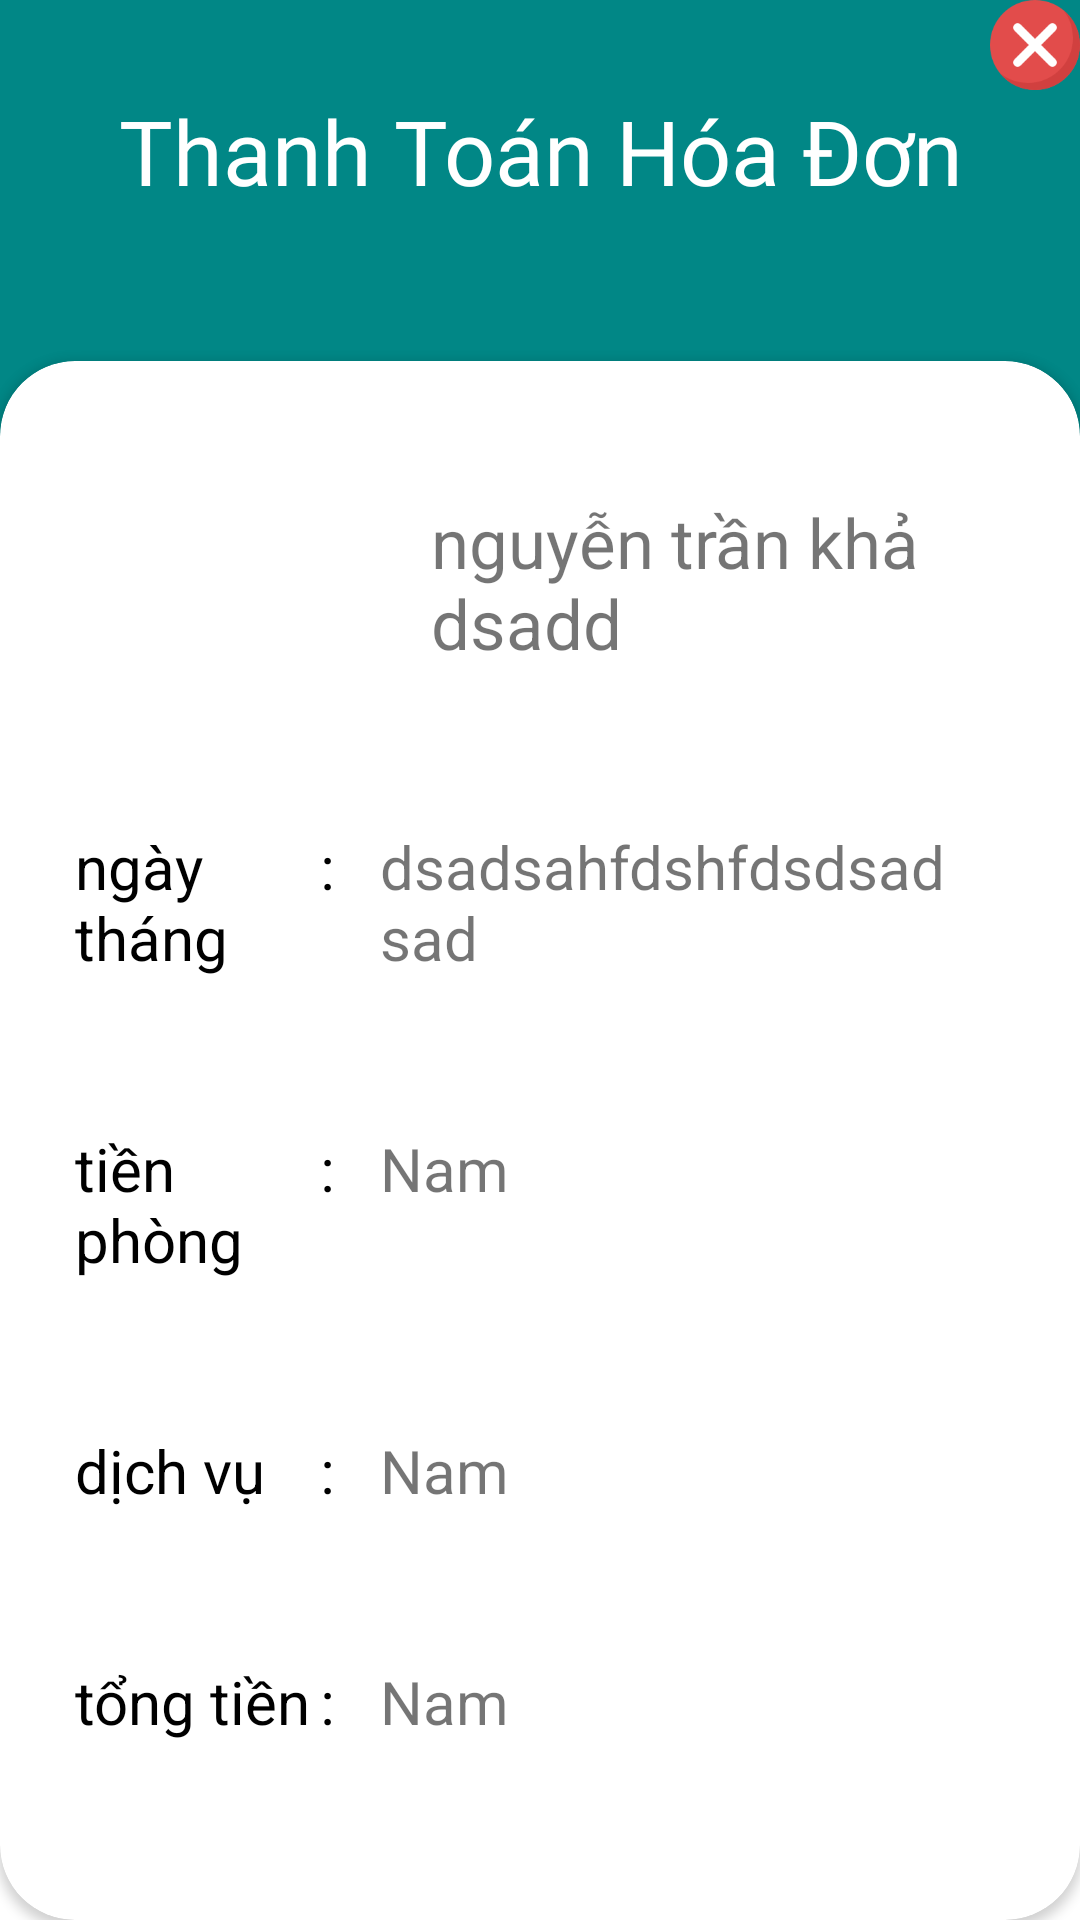

Icons on this 1080×1920 Android screen, each with its box as rect(x1, y1, x2, y2):
out dialog: rect(990, 0, 1080, 90)
